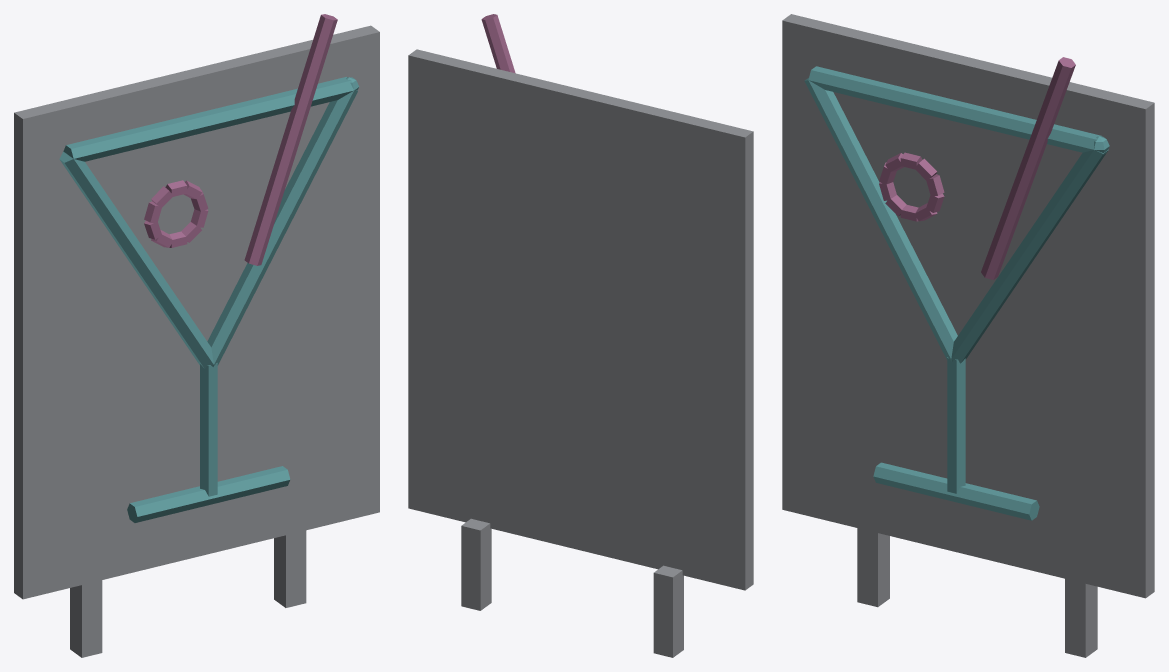
The model's file is HJ_Neon_Coctel.fbx.
3 renders of one model, left to right at view 1: azimuth 30°, elevation 25°; view 2: azimuth 150°, elevation 25°; view 3: azimuth 330°, elevation 25°, orthographic. The views are drawn at different scales.
Parts seen in each view (by area): view 1: HJ_Neon_Coctel; view 2: HJ_Neon_Coctel; view 3: HJ_Neon_Coctel.
Part boxes in pixels (box(x1,y1,x2,y2)): HJ_Neon_Coctel: box(14, 14, 379, 657); HJ_Neon_Coctel: box(408, 14, 753, 657); HJ_Neon_Coctel: box(782, 14, 1154, 657).
Bounding box in the file's own units: 1.4 × 2.26 × 0.25.
